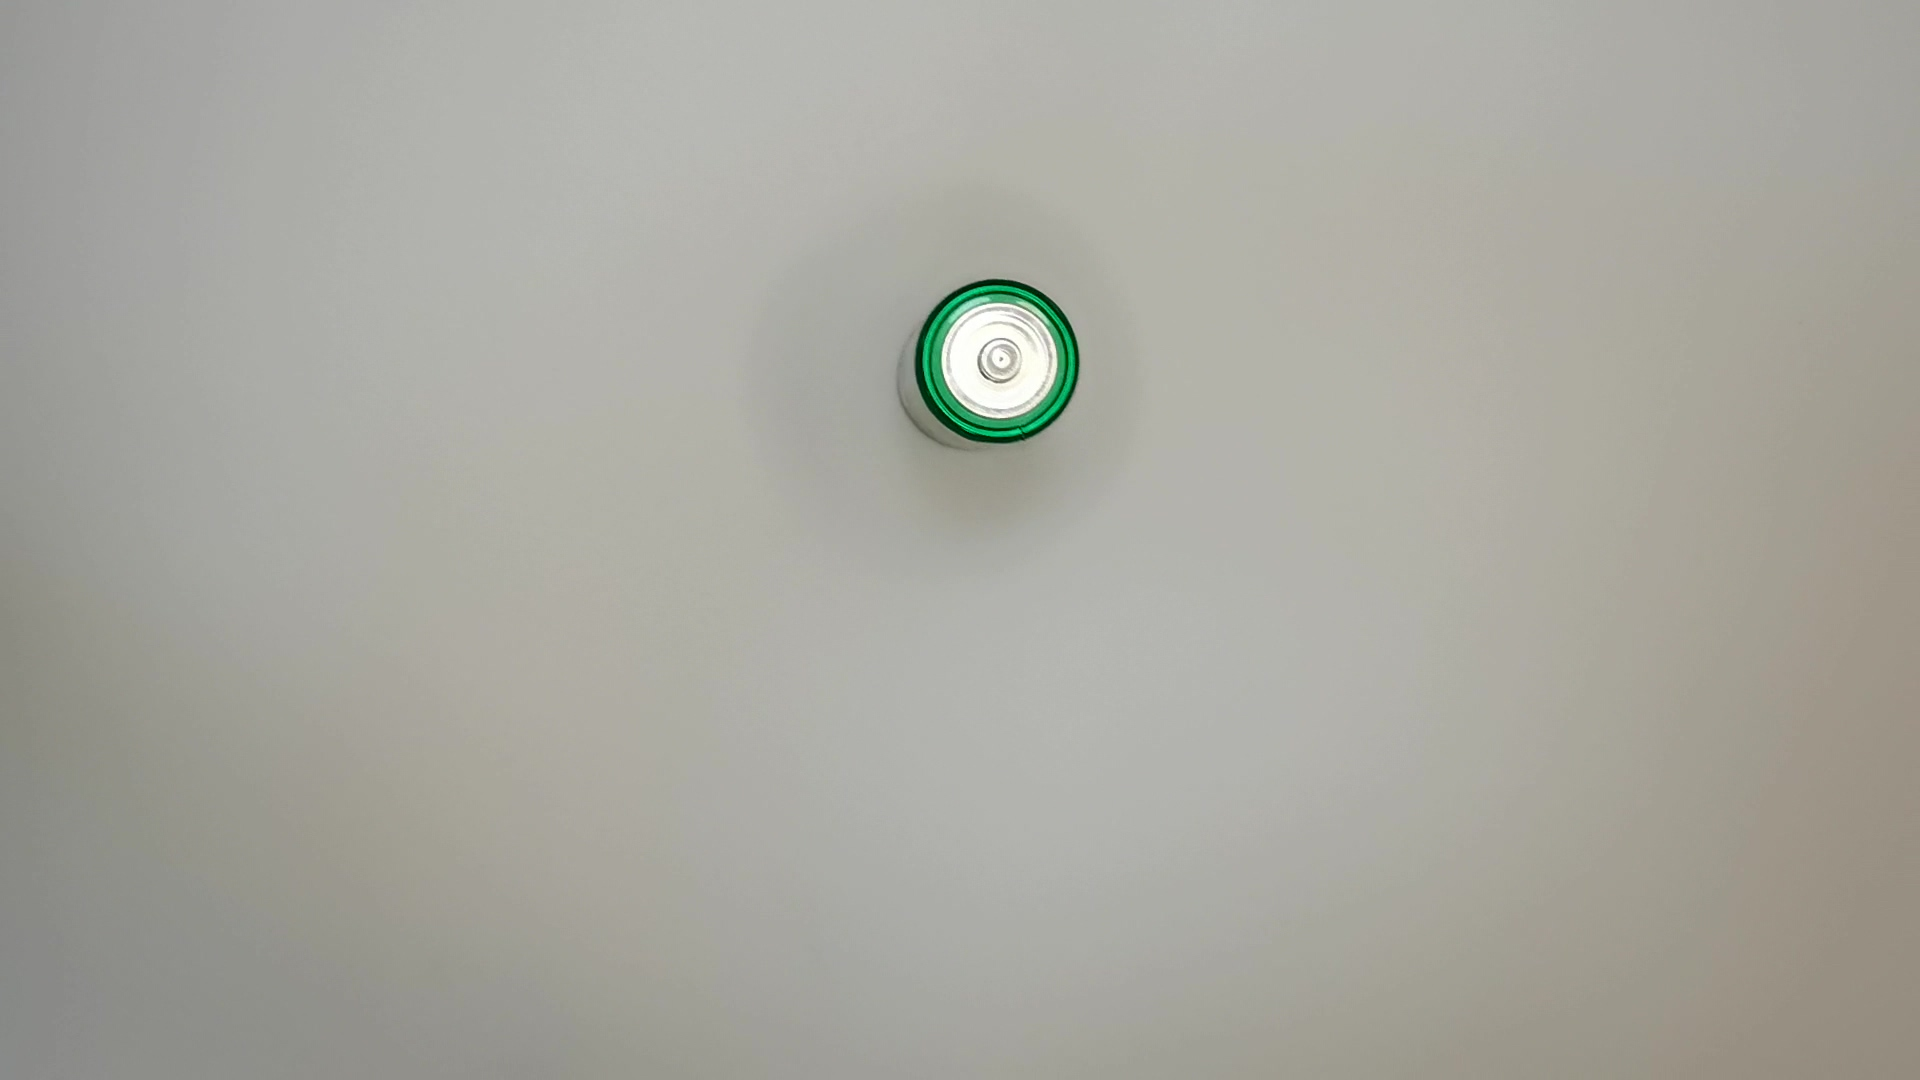battery: (893, 278, 1084, 460)
